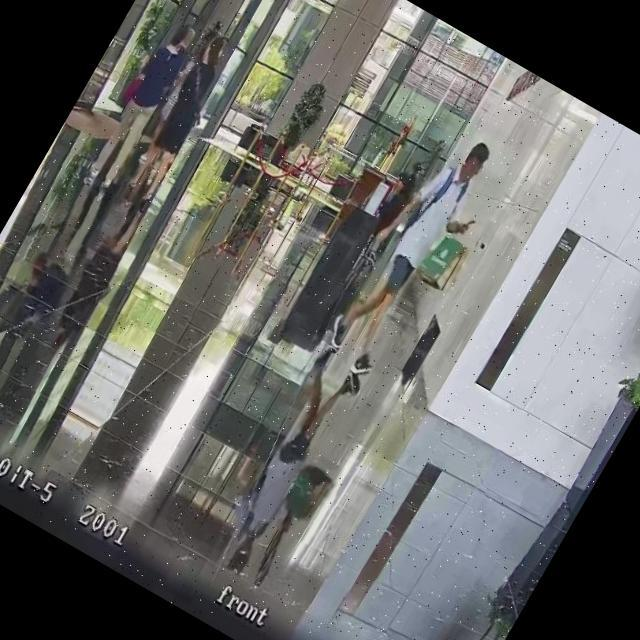person: (312, 120, 512, 388), (112, 29, 244, 220), (76, 15, 206, 204), (364, 170, 422, 248)
